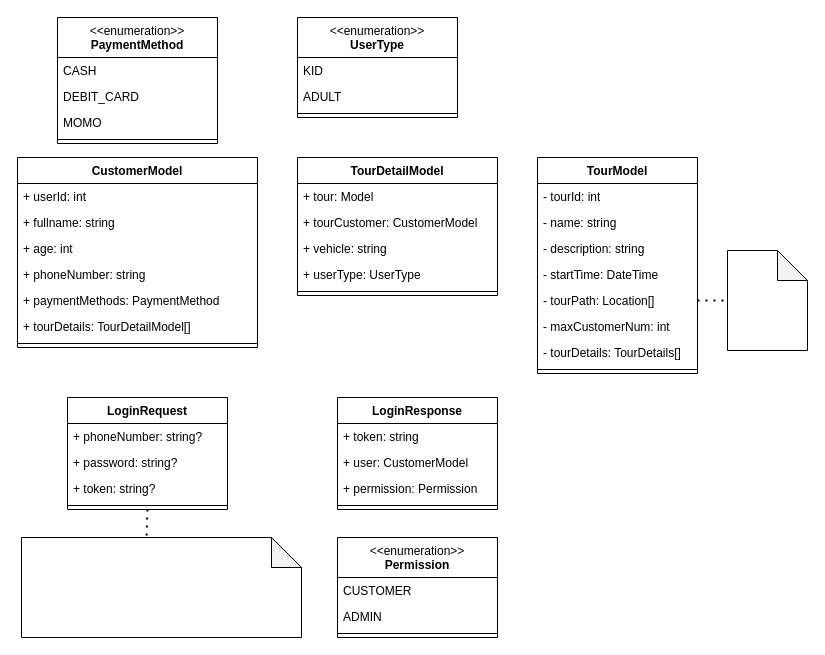
Image size: 825x655. Some labels were removed from this diagram. Each missing label, with the centre of its shape:
for simplicity, Location is string: the point at 767,300
Login either by phone number and password or by token: the point at 161,587
